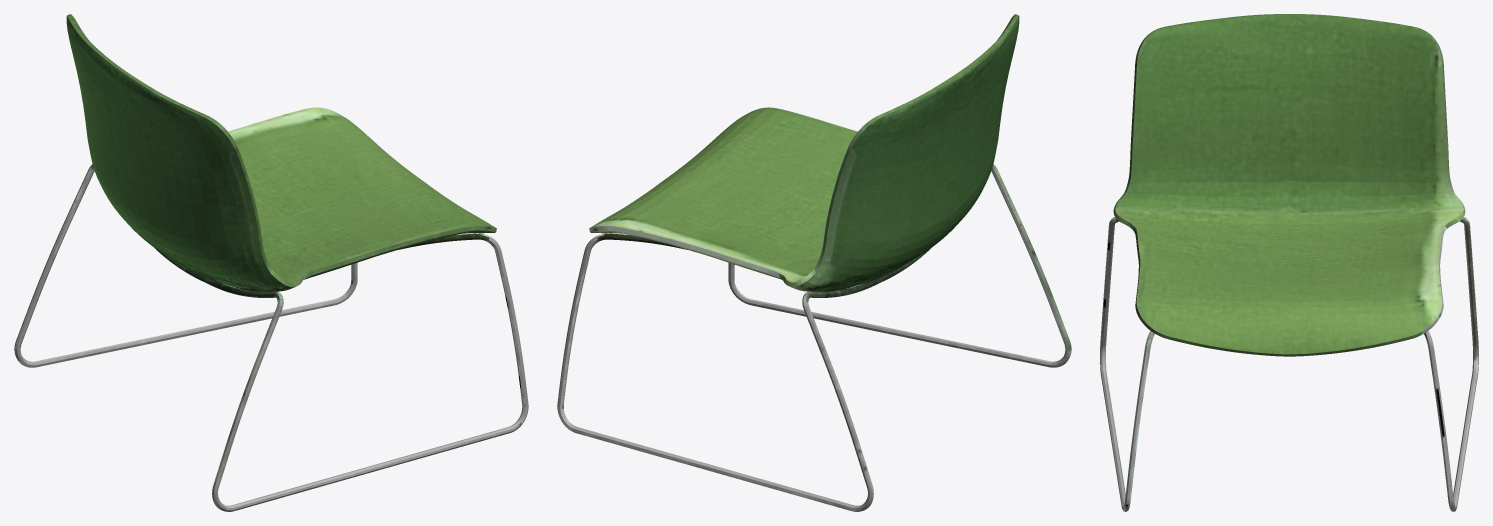
3 renders of one model, left to right at view 1: azimuth 30°, elevation 25°; view 2: azimuth 150°, elevation 25°; view 3: azimuth 270°, elevation 25°, orthographic. The views are drawn at different scales.
Parts seen in each view (by area): view 1: Node; view 2: Node; view 3: Node.
Boxes of the visible parts, left/top/right/bottom form: Node: left=14, top=14, right=528, bottom=511; Node: left=557, top=14, right=1071, bottom=511; Node: left=1100, top=14, right=1478, bottom=511.
Bounding box in the file's own units: 0.6401 × 0.7 × 0.6765.
Materials: 1 (1 with a texture image).
